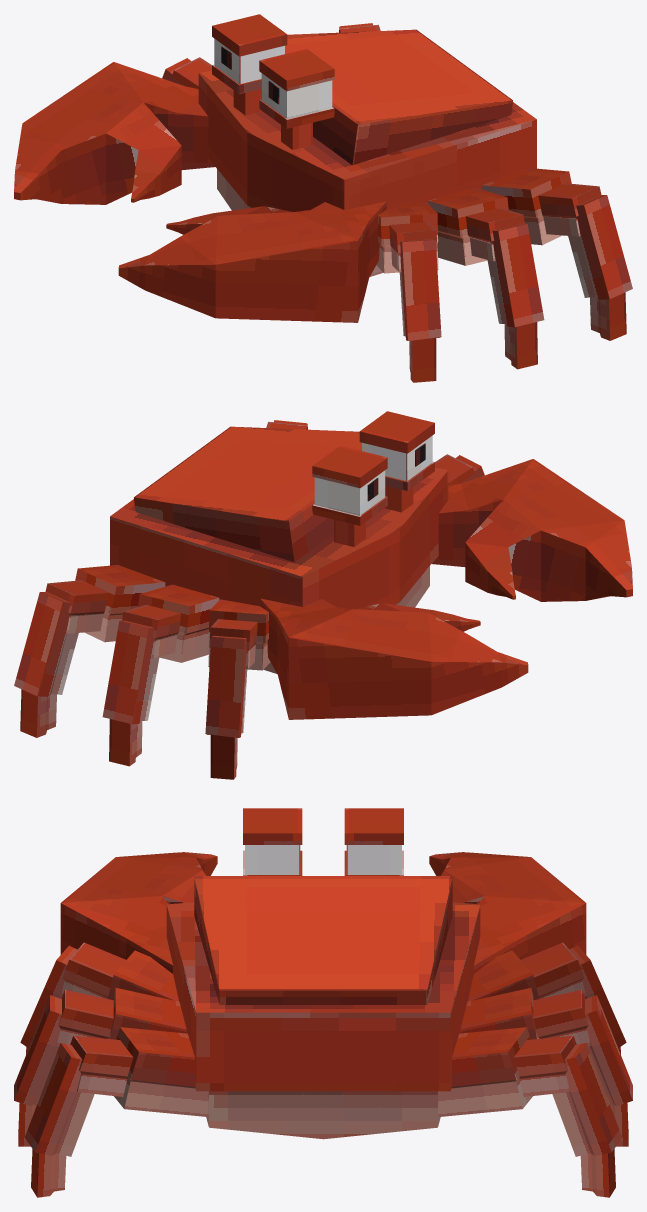
File: animal_crab.obj
The picture shows the model from 3 angles, top to bottom: view 1: azimuth 30°, elevation 25°; view 2: azimuth 150°, elevation 25°; view 3: azimuth 270°, elevation 25°; orthographic projection. The views are drawn at different scales.
Parts seen in each view (by area): view 1: animal_crab; view 2: animal_crab; view 3: animal_crab.
Part boxes in pixels (x1,y1,x2,y2): animal_crab: (14,14,632,382); animal_crab: (14,411,632,779); animal_crab: (14,808,632,1197).
Bounding box in the file's own units: 2.53 × 1.36 × 2.92.
1 material, 1 textured.
